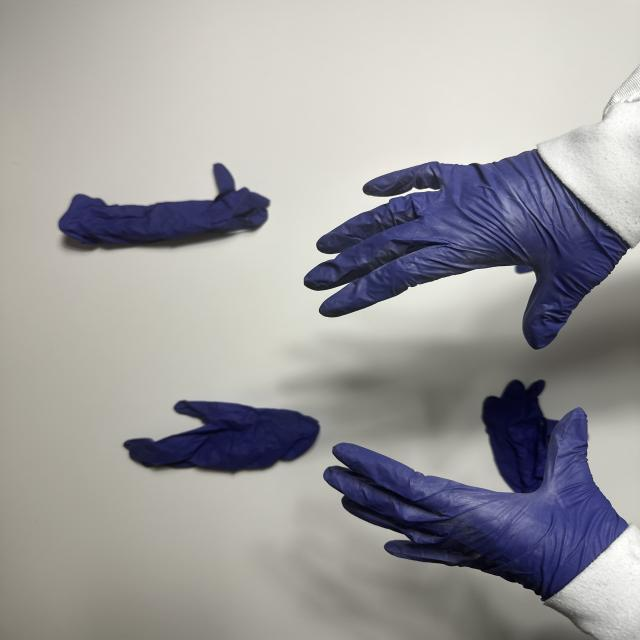gloves_contaminated: (304, 150, 626, 348), (324, 409, 623, 596)
